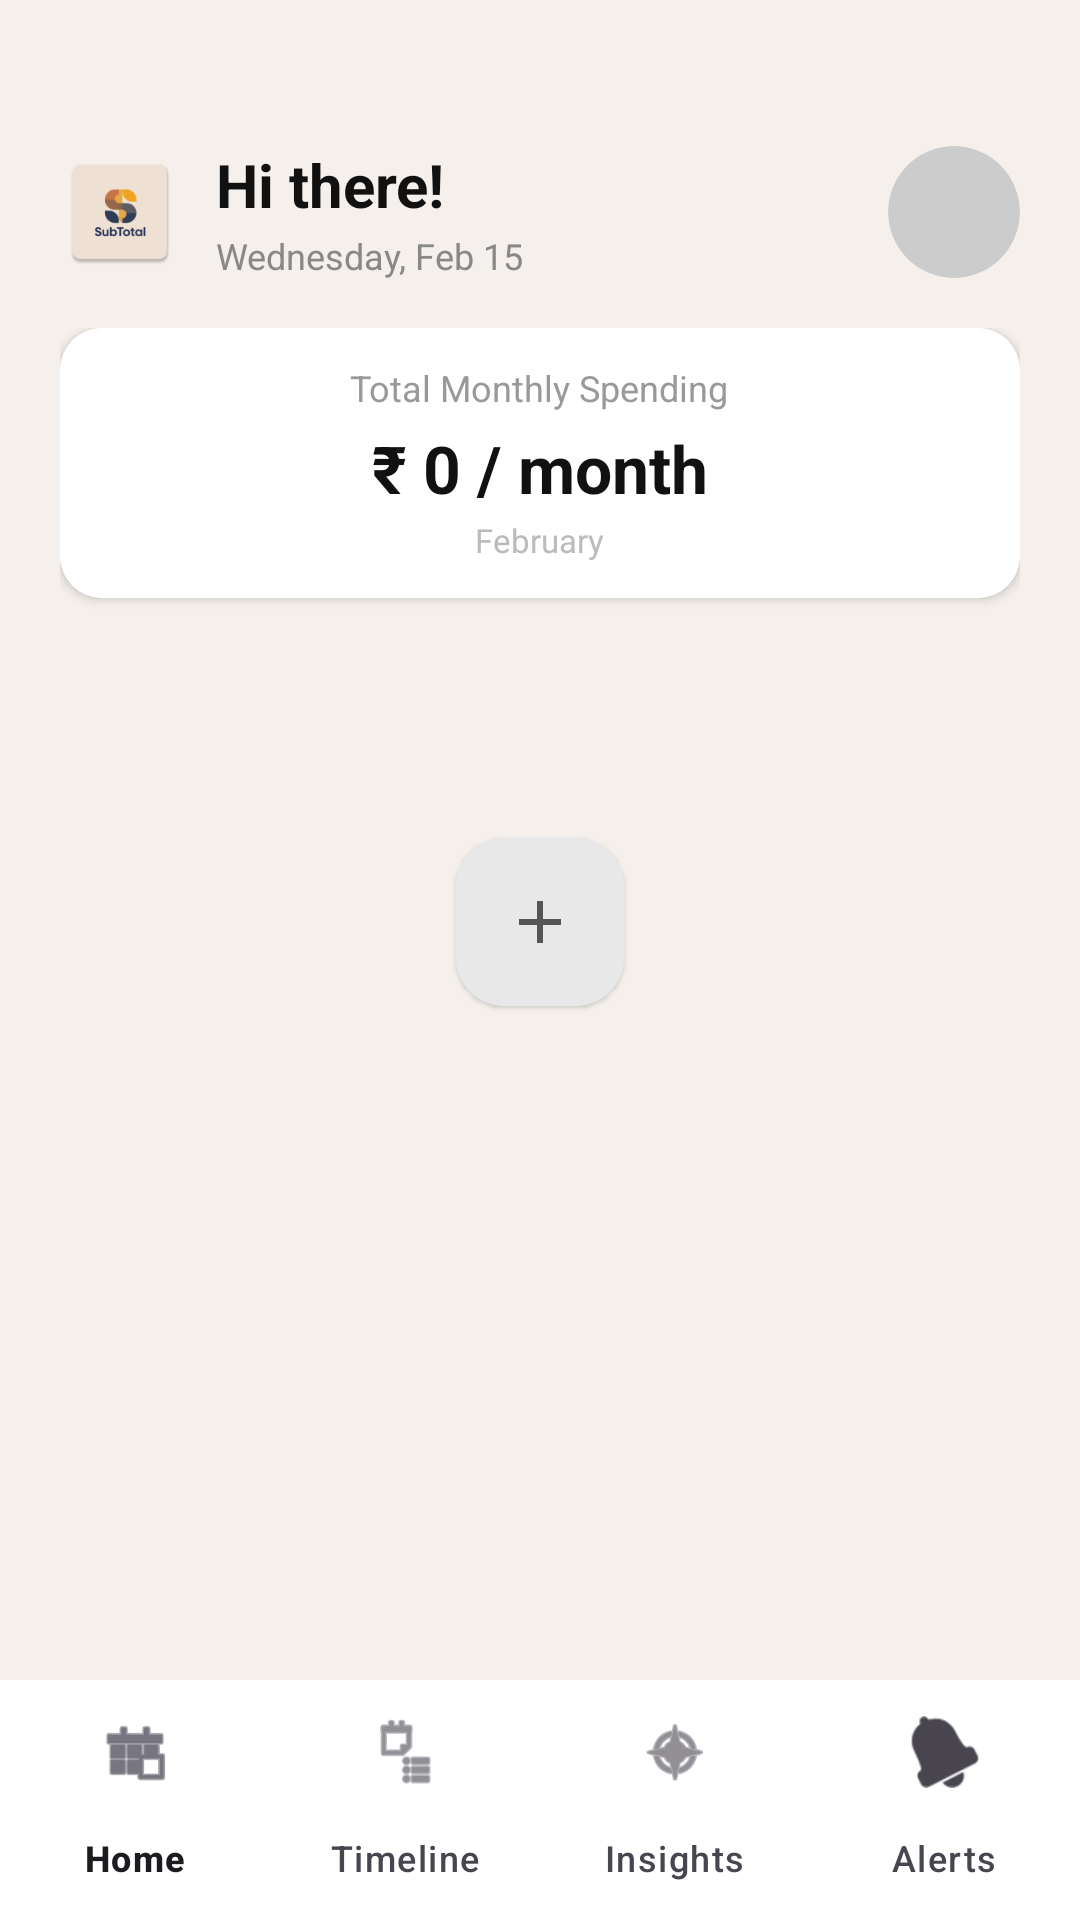

Named icons in this screenshot (1080×1920) and their bounding boxes, (left=x1, top=y1, right=x2, bottom=y2):
Add Subscription: (left=456, top=838, right=624, bottom=1006)
